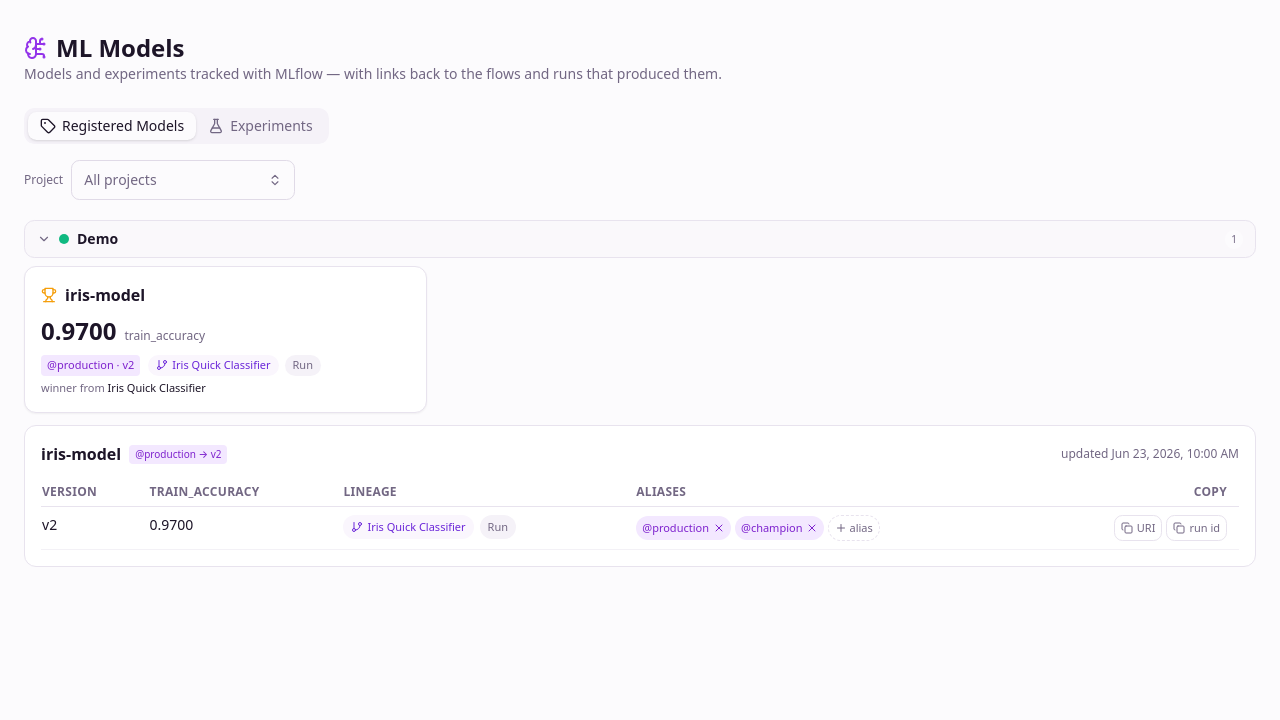
Scenario: ModelsPage › shows the experiments leaderboard ranked with best metric highlighted
Click the tab "Experiments": (260, 126) [196,112,325,140]
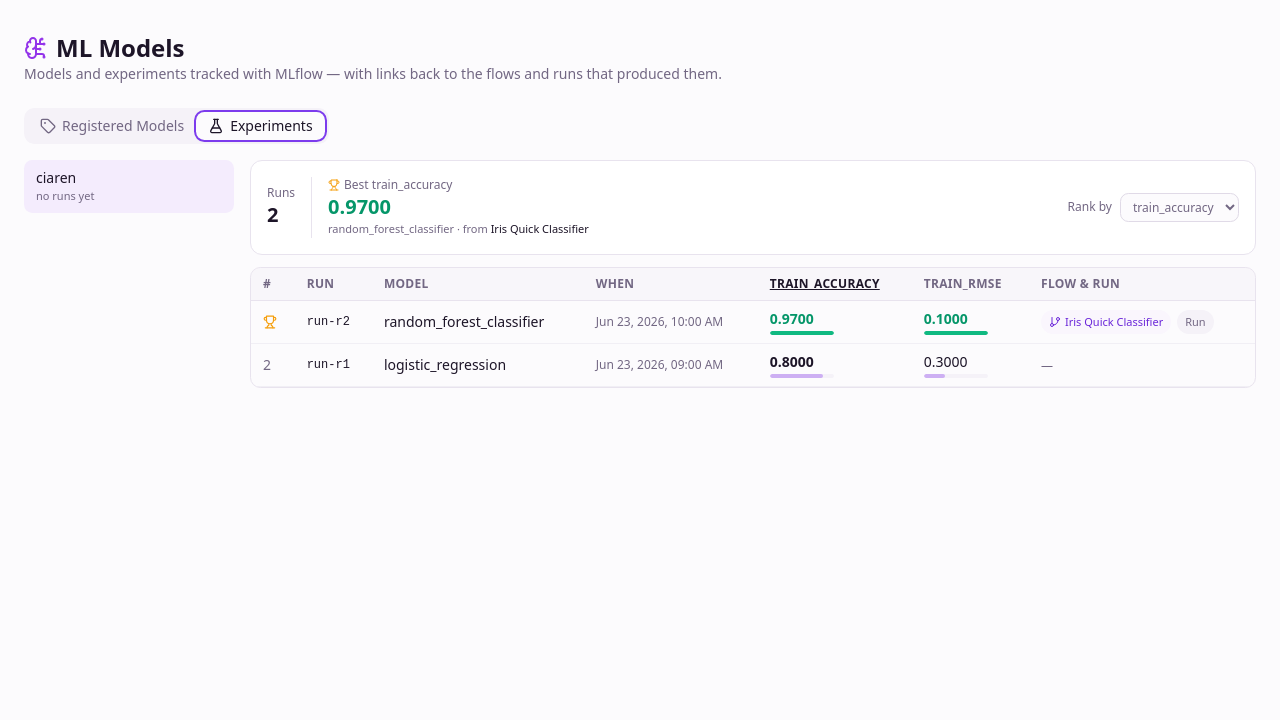
Check: the text "ciaren" is shown, box [36,168,76,187]
Check: the text "run-r2" is shown, box [295,300,372,343]
Check: the text "random_forest_classifier" is shown, box [372,300,584,343]
